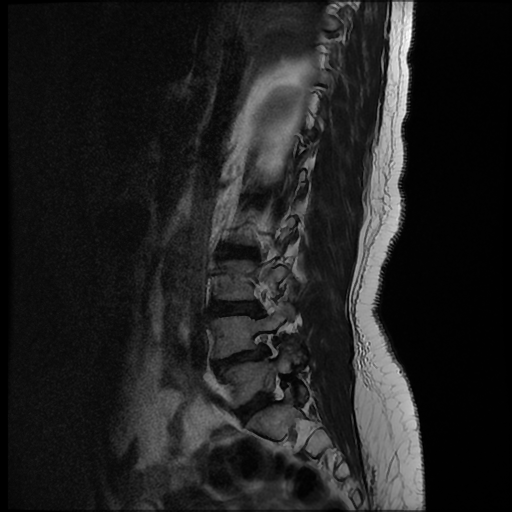RFS0: (244, 324, 286, 371)
